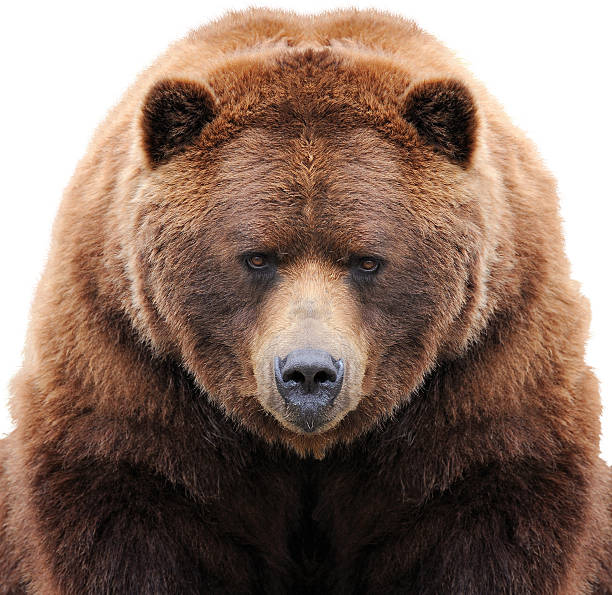bear: (135, 70, 491, 446)
